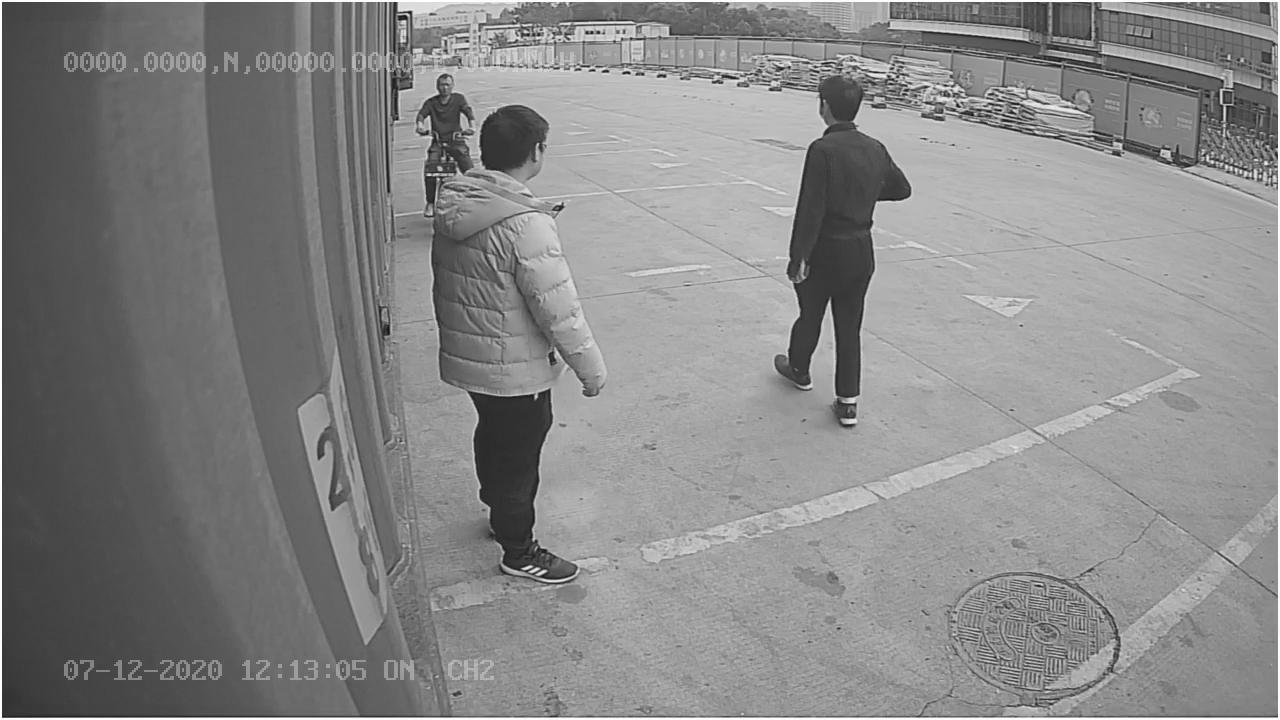person: (417, 94, 614, 610), (758, 73, 909, 431)
